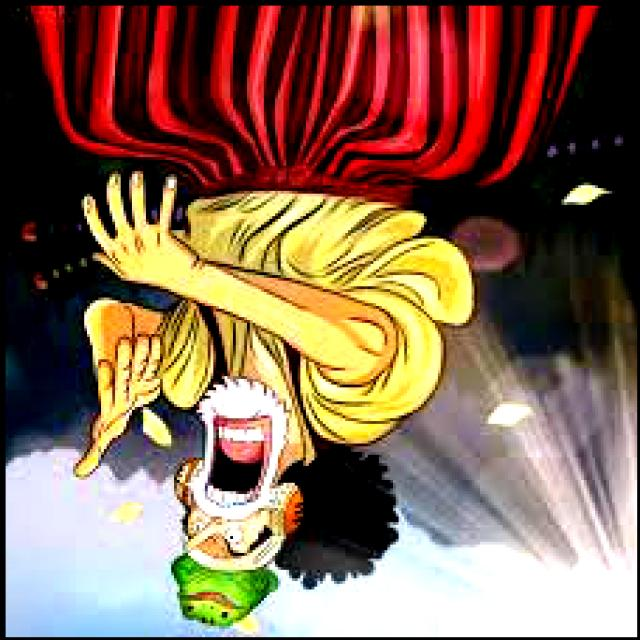Usopp: (28, 0, 601, 629)
